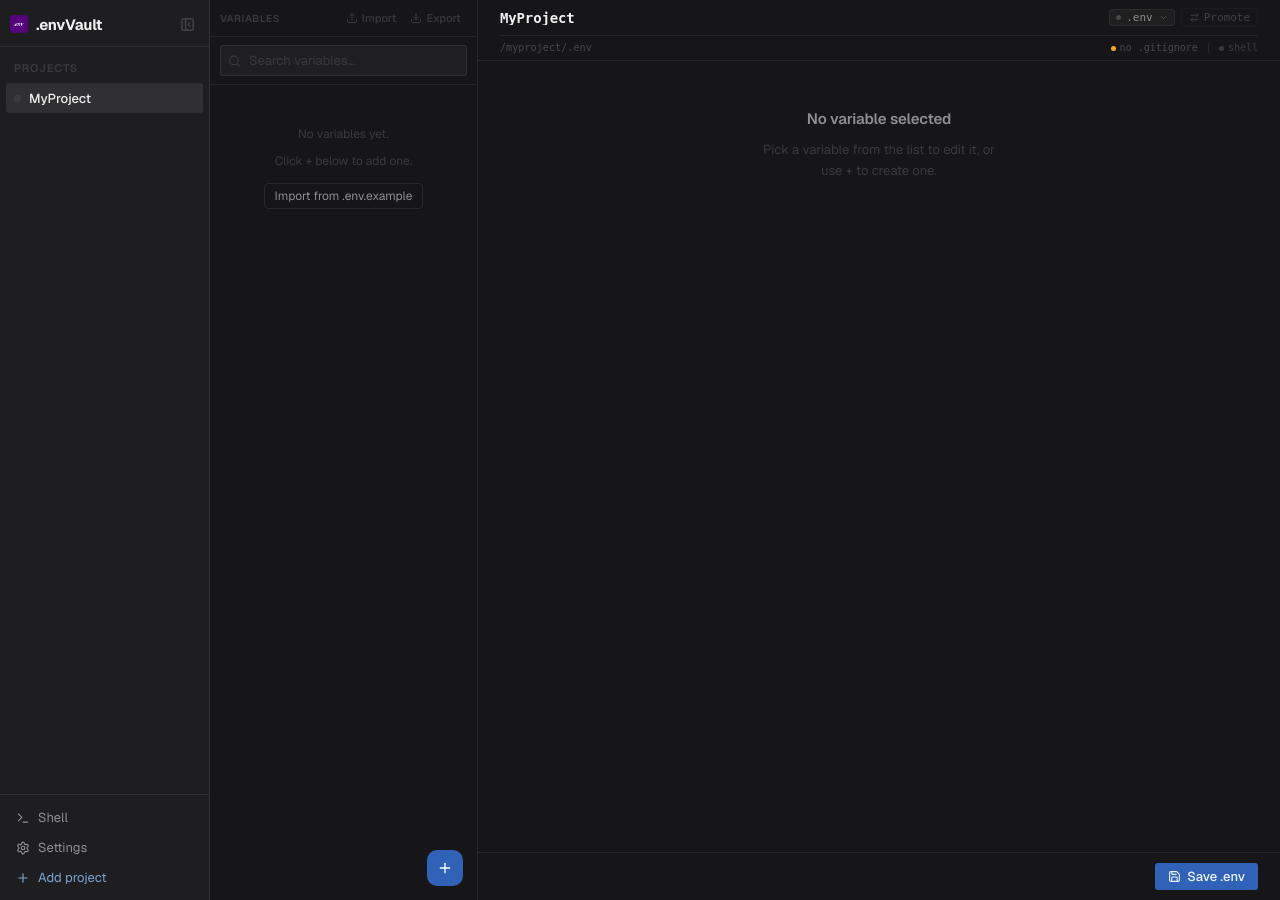
Test: App › addVar: adds a new empty var to selected project
Expected: the text "MyProject" is shown, [29,90,91,106]
# Use the first "Add variable" / "Add new variable" button (VarList FAB)
Click the button named "Add new variable": (445, 868) [427,850,463,886]
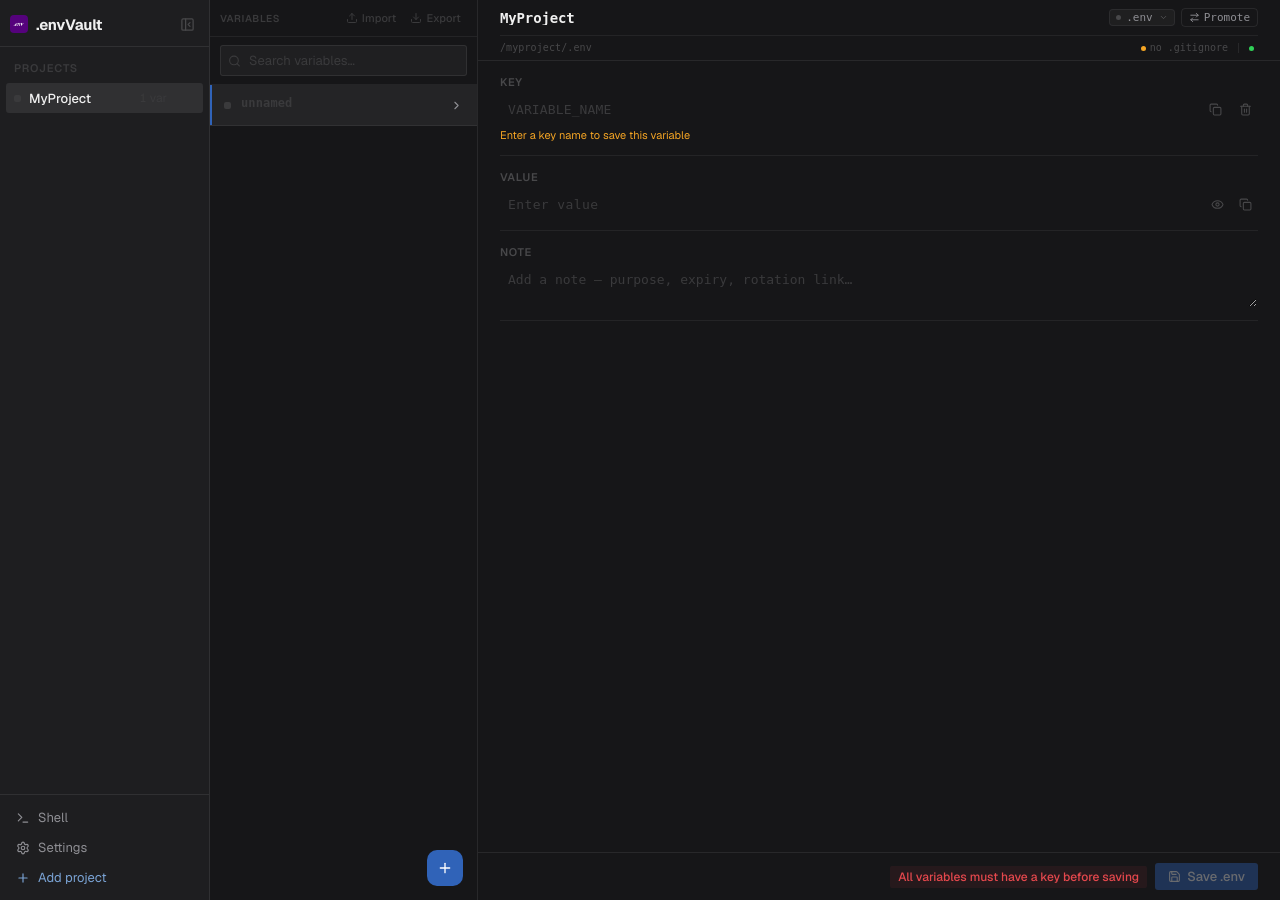
Expected: the field named "Variable key" is shown, [500,96,1198,123]
